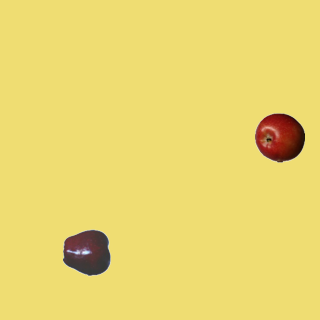Apple Braeburn: (254, 112, 304, 162)
Apple Red Delicious: (62, 227, 112, 277)
